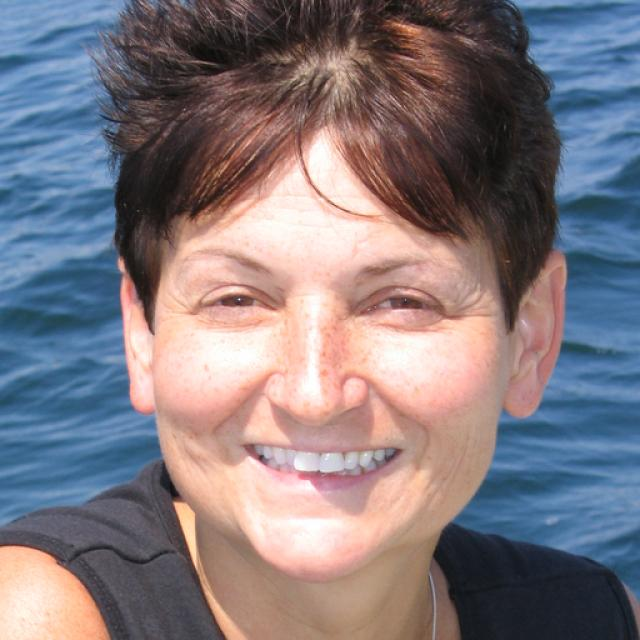Pigmentation: (283, 317, 354, 398)
